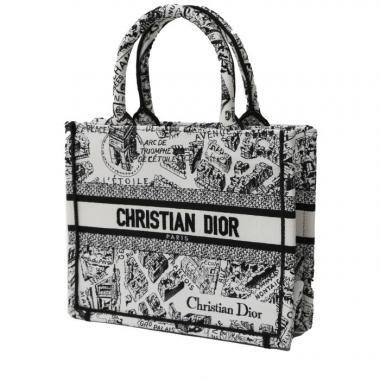DIOR: (106, 197, 251, 246)
